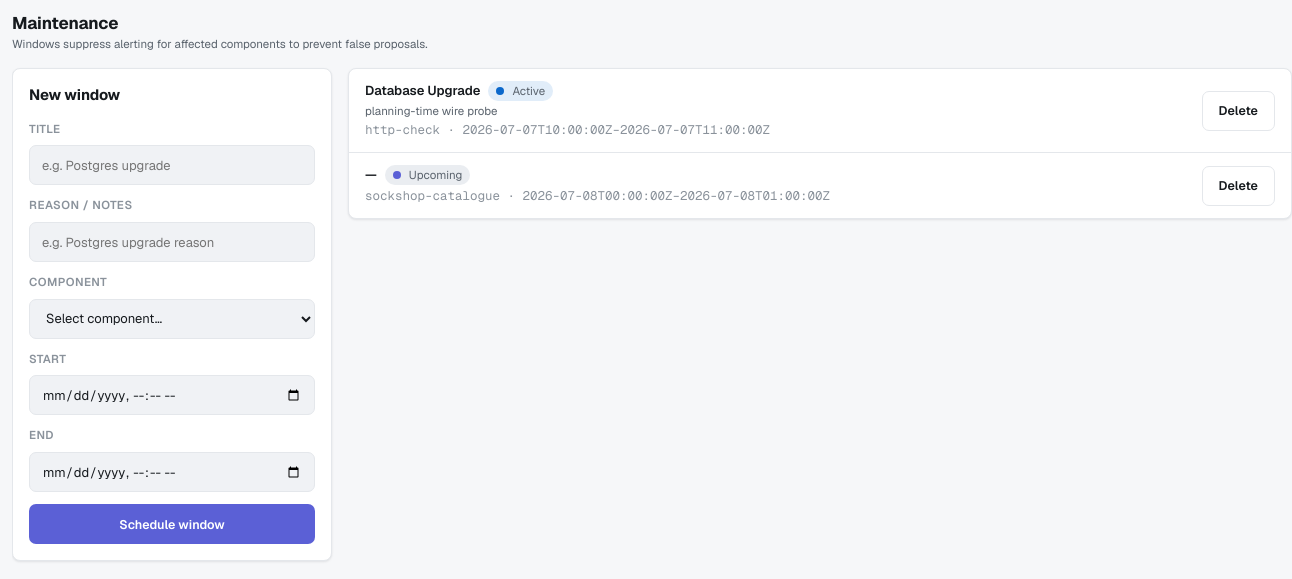
Scenario: MaintenancePage › renders a delete control on each window and supports two-step confirm delete on success (AC5)
Expected: the text "http-check" is shown, [365,121,440,138]
// First click: enters inline confirm state (shows "Confirm?", "Yes", "No")
Click the button "Delete" in the row of "2026-07-07T11:00:00Z" at (1238,111), box [1202,91,1275,131]
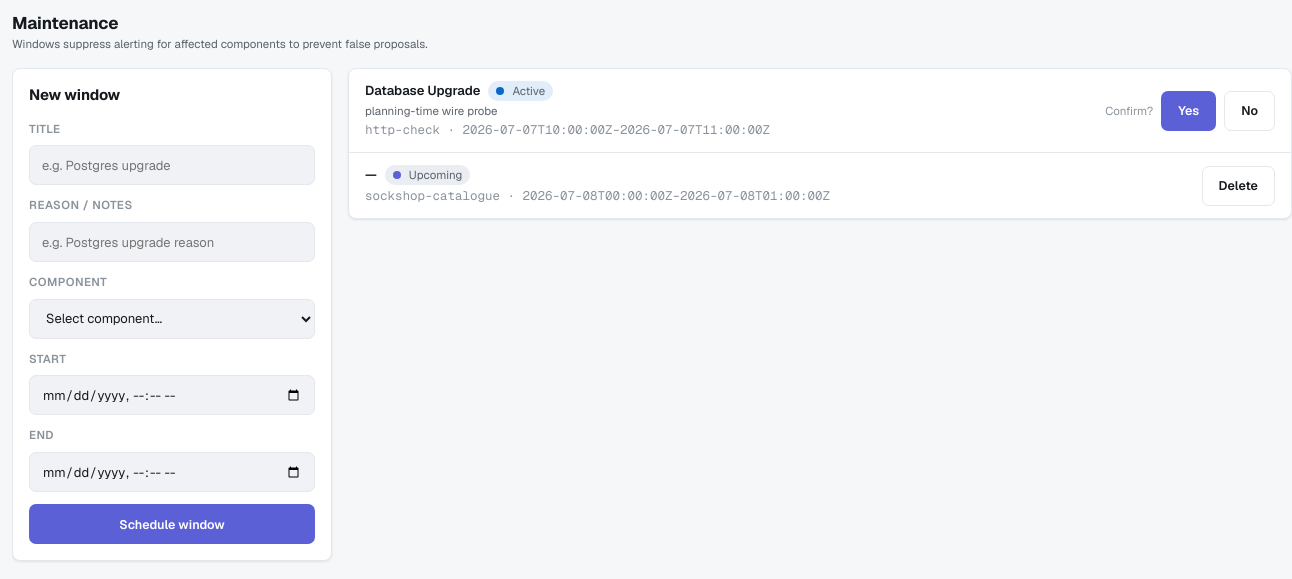
Result: the text "Confirm?" is shown at [1105,103,1153,119]
Result: the button "Yes" is shown at [1161,91,1216,131]
Result: the button "No" is shown
// Second click - Cancel/No: returns to normal state
Click the button "No" at (1250,111), box [1224,91,1275,131]
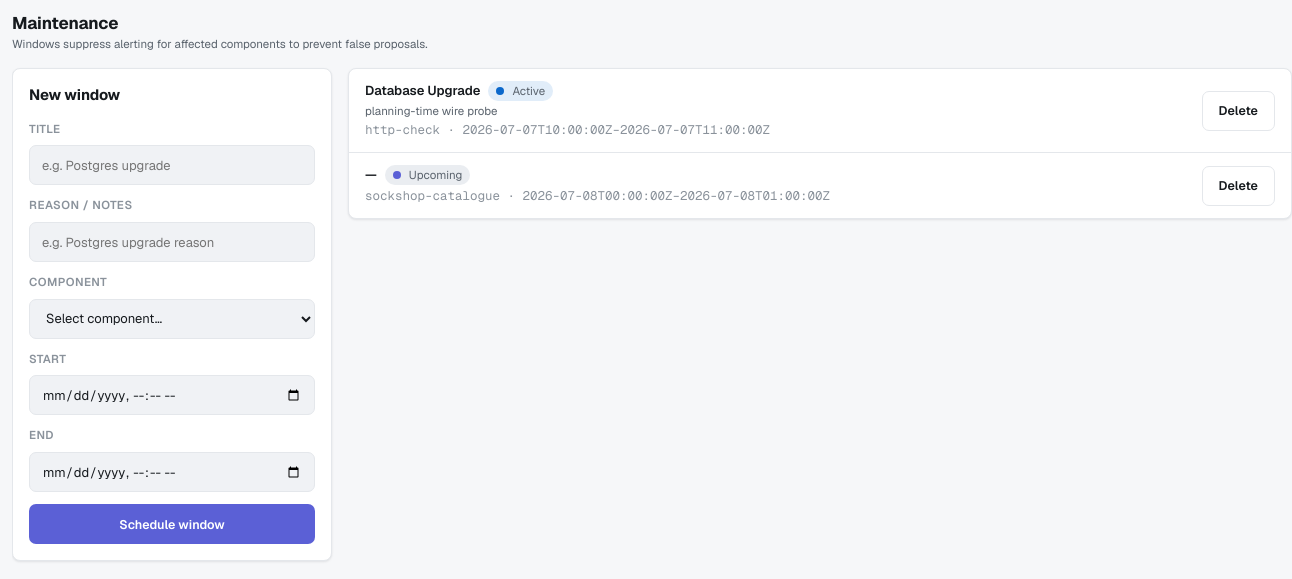
Result: the text "Confirm?" is gone
Result: the button "Yes" is gone
// Click Delete again, then Confirm/Yes
Click the button "Delete" in the row of "2026-07-07T11:00:00Z" at (1238,111), box [1202,91,1275,131]
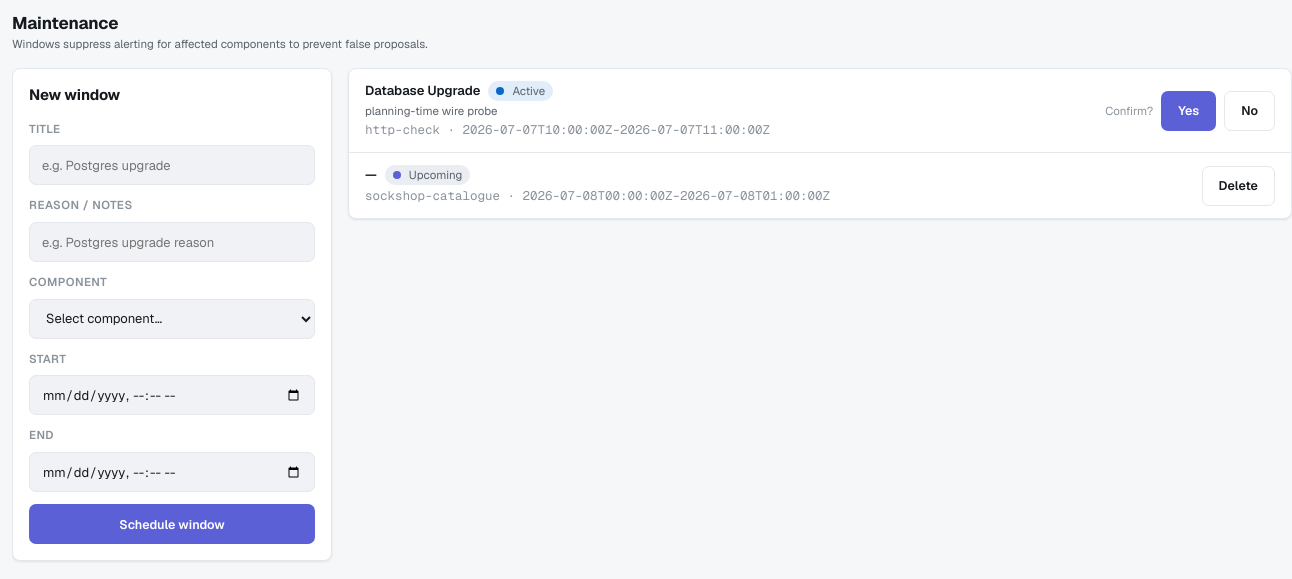
Click the button "Yes" at (1189,111), box [1161,91,1216,131]
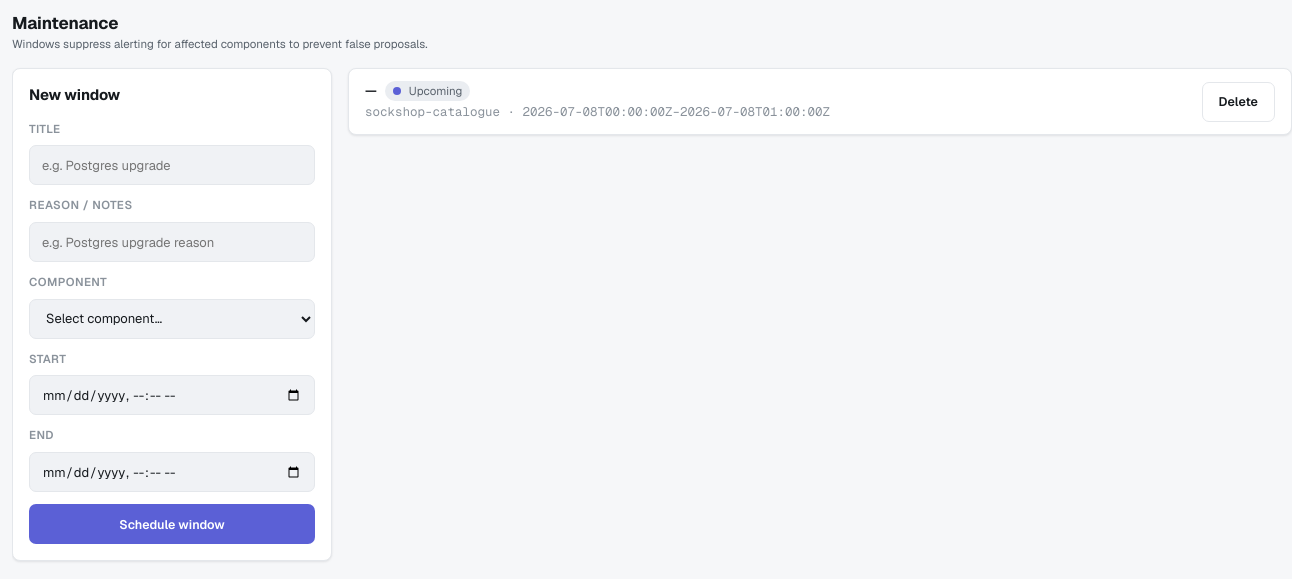
Result: the text "http-check" is gone
